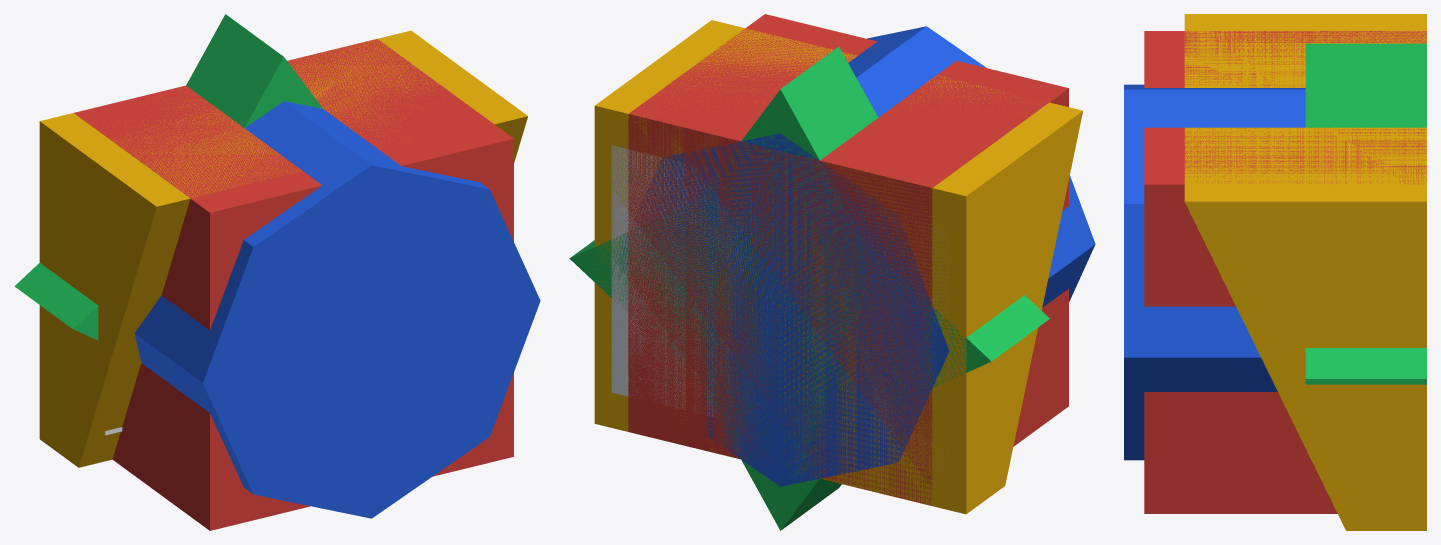
The model's file is relay_objects.obj.
3 renders of one model, left to right at view 1: azimuth 30°, elevation 25°; view 2: azimuth 150°, elevation 25°; view 3: azimuth 270°, elevation 25°, orthographic. The views are drawn at different scales.
Parts seen in each view (by area): view 1: blue_cylinder, red_crate, yellow_wedge, green_gear; view 2: red_crate, blue_cylinder, yellow_wedge, green_gear, white_tag; view 3: yellow_wedge, red_crate, blue_cylinder, green_gear.
Part boxes in pixels (bbox=[...]): blue_cylinder: bbox=[134, 101, 540, 518]; red_crate: bbox=[74, 39, 513, 530]; yellow_wedge: bbox=[39, 30, 527, 467]; green_gear: bbox=[14, 14, 322, 340]; red_crate: bbox=[628, 14, 1068, 505]; blue_cylinder: bbox=[617, 26, 1095, 486]; yellow_wedge: bbox=[594, 20, 1082, 514]; green_gear: bbox=[569, 46, 1049, 530]; white_tag: bbox=[611, 145, 948, 469]; yellow_wedge: bbox=[1184, 14, 1426, 530]; red_crate: bbox=[1144, 31, 1426, 513]; blue_cylinder: bbox=[1124, 84, 1305, 460]; green_gear: bbox=[1305, 43, 1426, 384].
Bounding box in the file's own units: 0.5 × 0.5 × 0.3.
